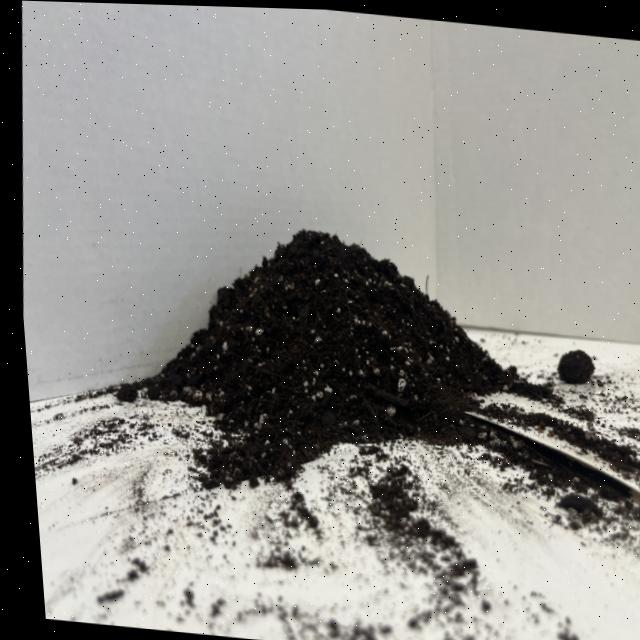soil: (94, 205, 566, 524)
